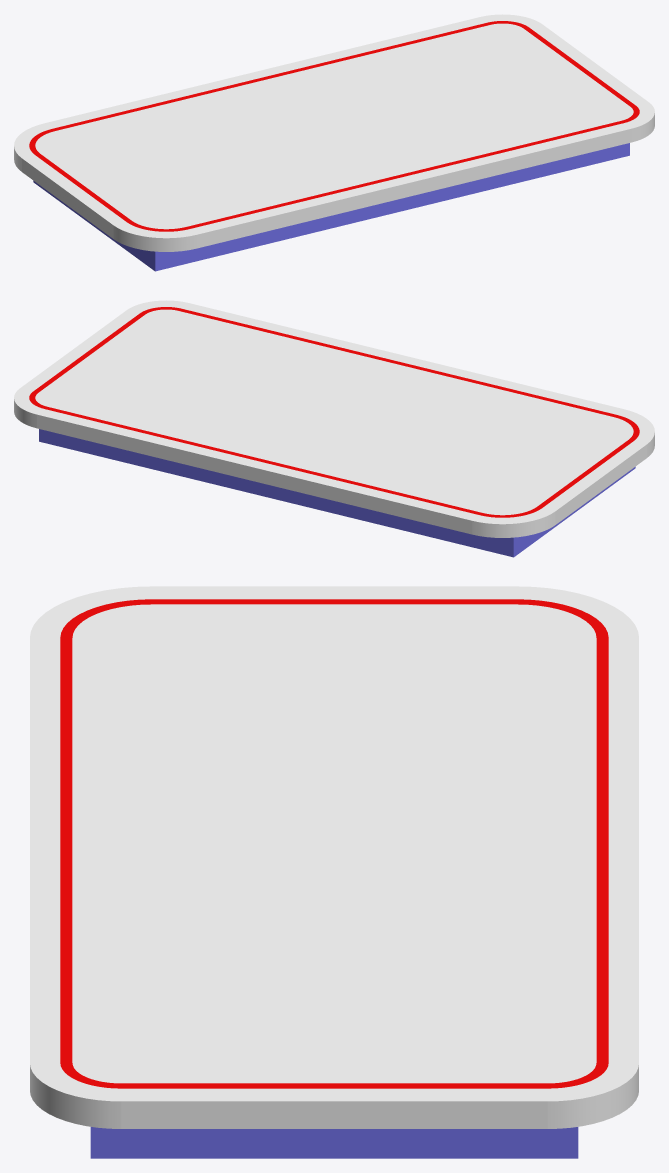
The model's file is standee-09.glb.
3 views of the same model, one above another, from view 1: azimuth 30°, elevation 25°; view 2: azimuth 150°, elevation 25°; view 3: azimuth 270°, elevation 25° (orthographic). The views are drawn at different scales.
Visible parts, largest first — view 1: 3DGeom-8, 3DGeom-10, 3DGeom-9; view 2: 3DGeom-8, 3DGeom-10, 3DGeom-9; view 3: 3DGeom-8, 3DGeom-9, 3DGeom-10.
Boxes of the visible parts, <box> form: 3DGeom-8: <box>14,14,654,251</box>; 3DGeom-10: <box>33,143,629,271</box>; 3DGeom-9: <box>29,21,639,231</box>; 3DGeom-8: <box>14,300,654,537</box>; 3DGeom-10: <box>39,429,635,557</box>; 3DGeom-9: <box>29,307,639,517</box>; 3DGeom-8: <box>30,586,638,1128</box>; 3DGeom-9: <box>60,599,608,1088</box>; 3DGeom-10: <box>90,1127,578,1158</box>.
Bounding box in the file's own units: 2 × 0.15 × 1.
